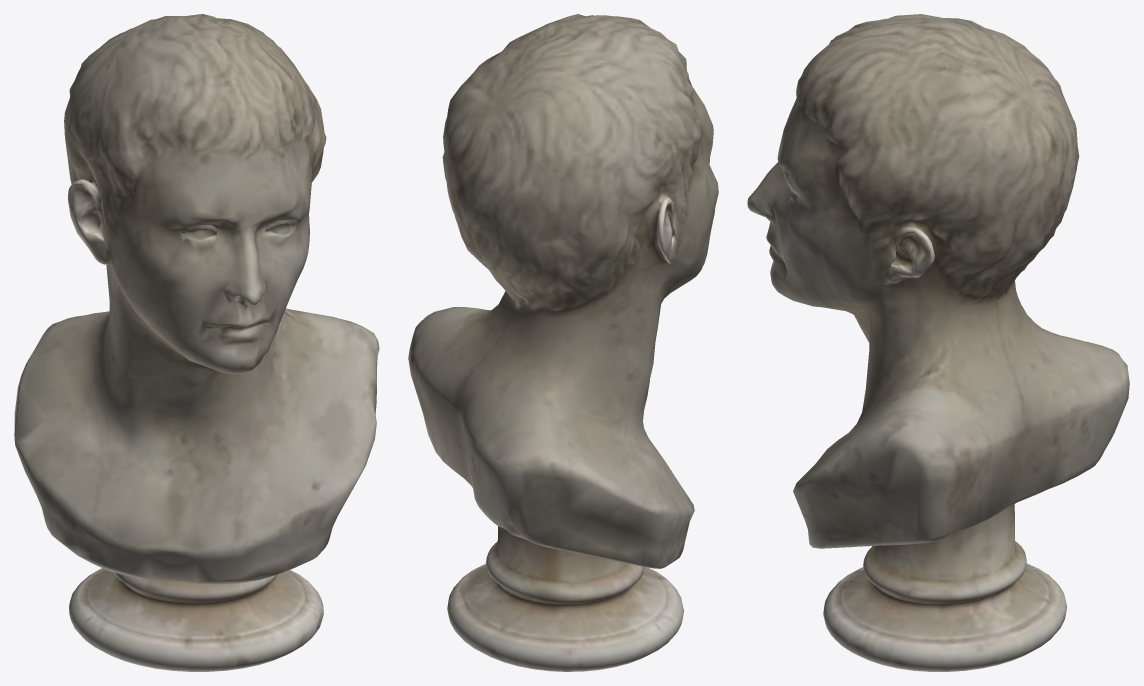
Rendered from bust.glb.
3 renders of one model, left to right at view 1: azimuth 30°, elevation 25°; view 2: azimuth 150°, elevation 25°; view 3: azimuth 270°, elevation 25°, orthographic. The views are drawn at different scales.
Parts seen in each view (by area): view 1: marble_bust_01; view 2: marble_bust_01; view 3: marble_bust_01.
Part boxes in pixels (x1=…): marble_bust_01: x1=14, y1=14, x2=379, y2=671; marble_bust_01: x1=408, y1=14, x2=718, y2=671; marble_bust_01: x1=747, y1=14, x2=1129, y2=671.
Size of the model in its own units: 0.2718 by 0.5149 by 0.2997.
1 material, 1 textured.
